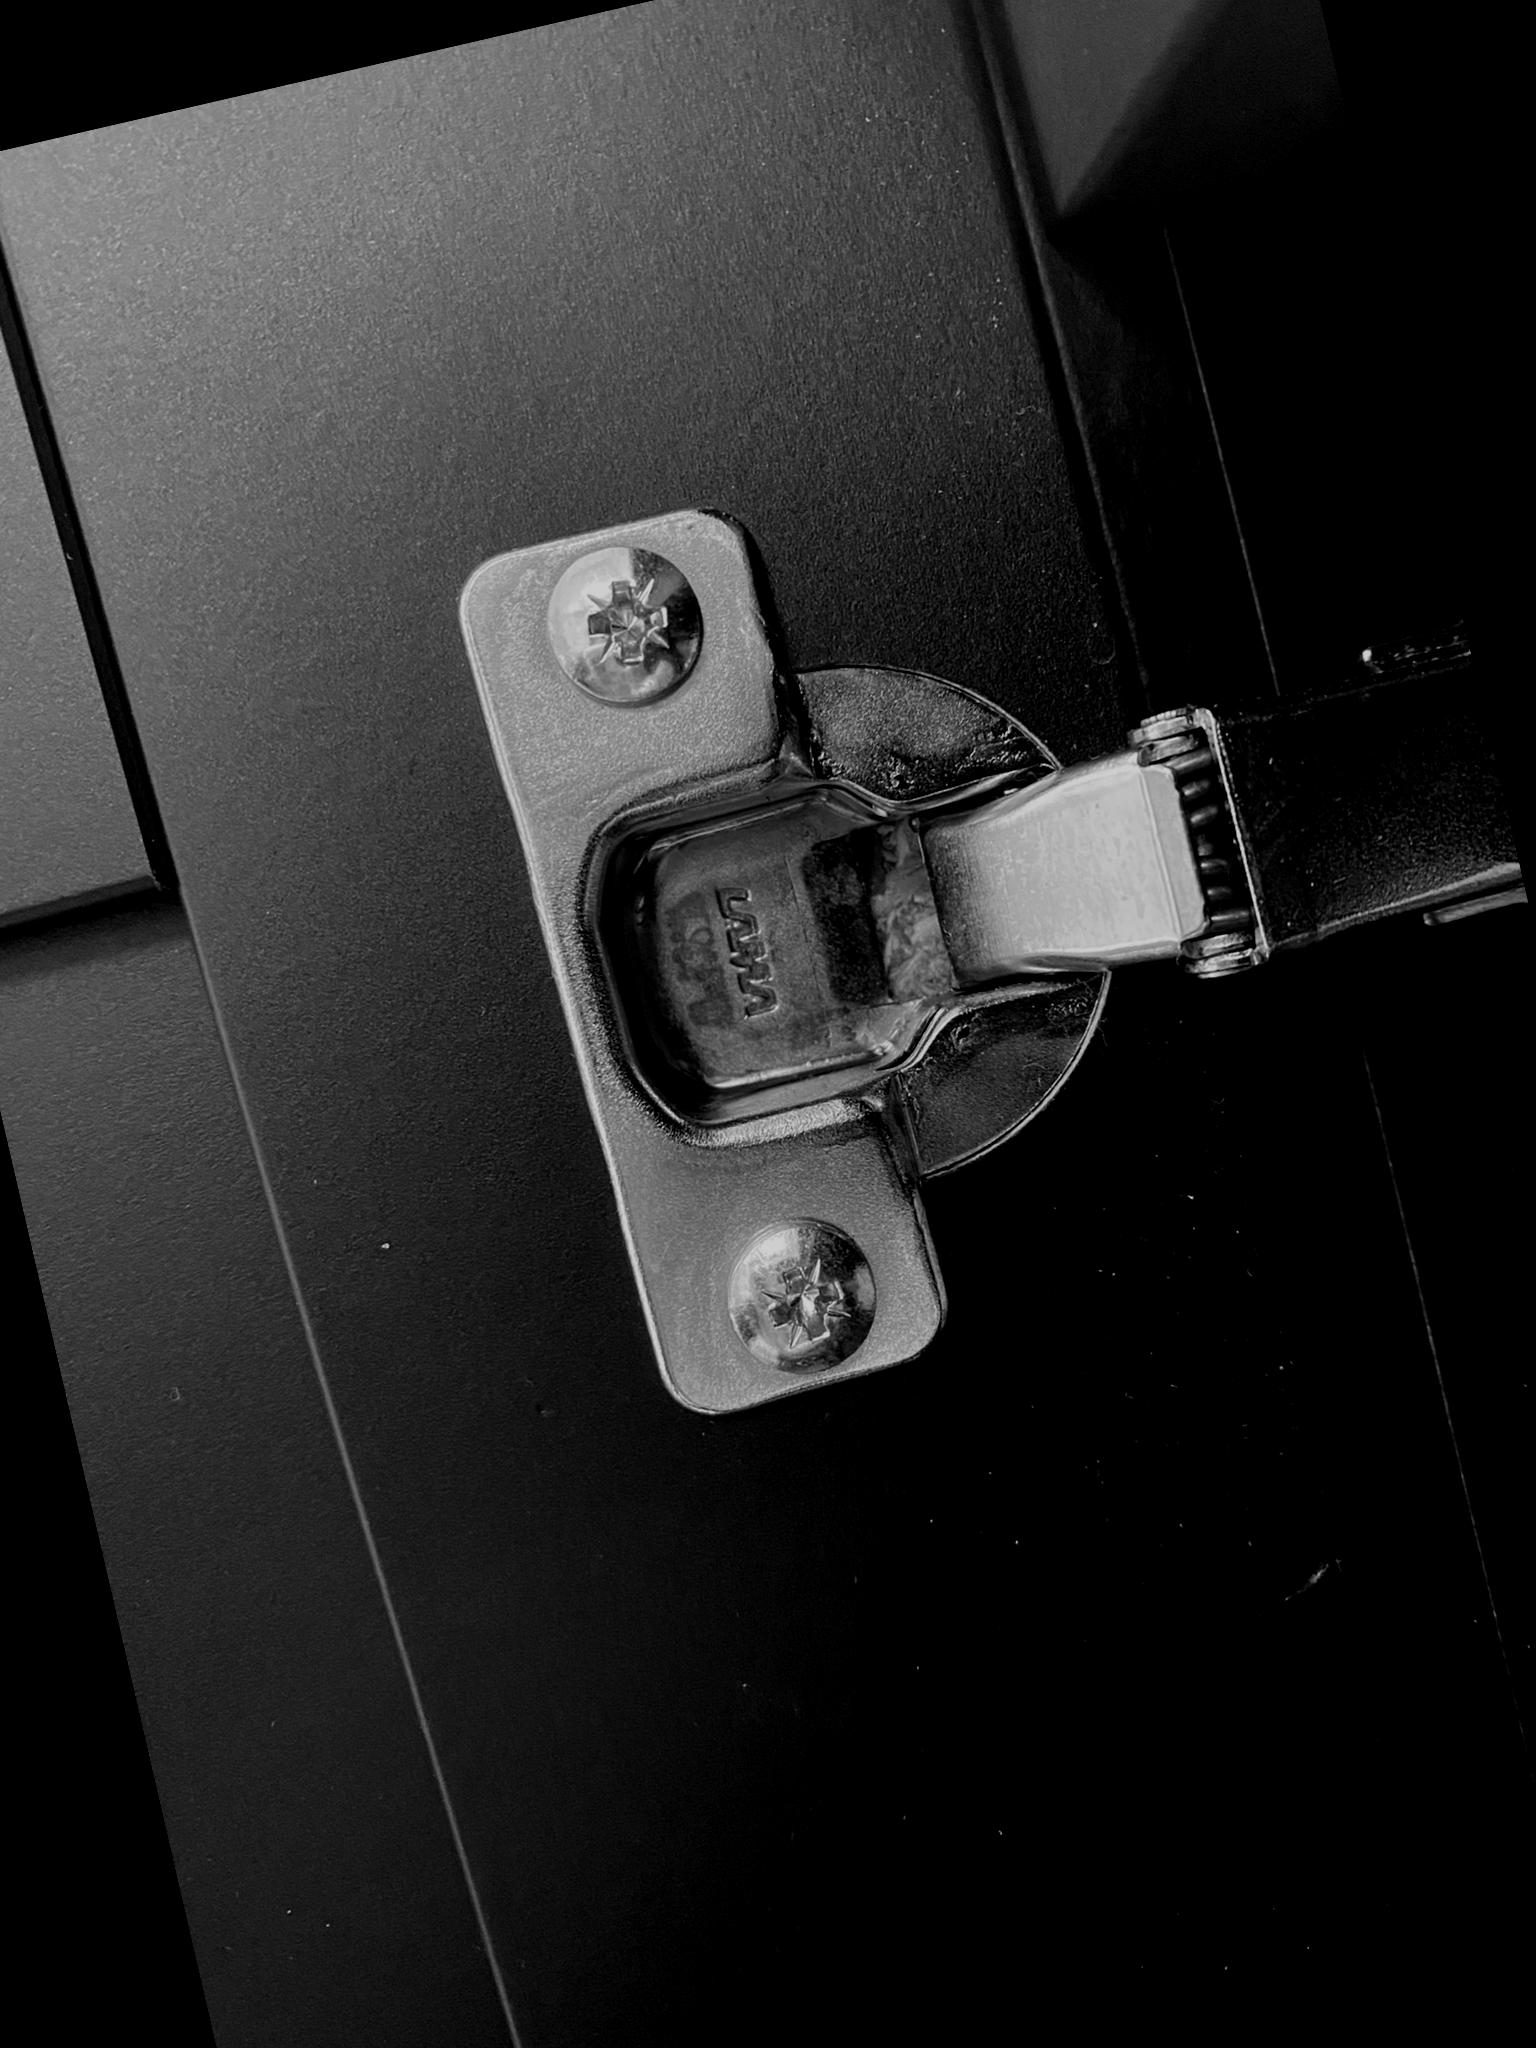philips-PZ: (529, 526, 720, 724), (710, 1205, 892, 1388)
